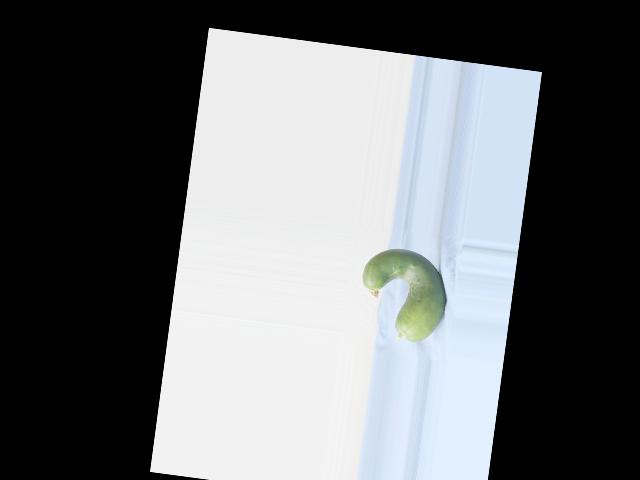cucumber: (354, 244, 452, 346)
